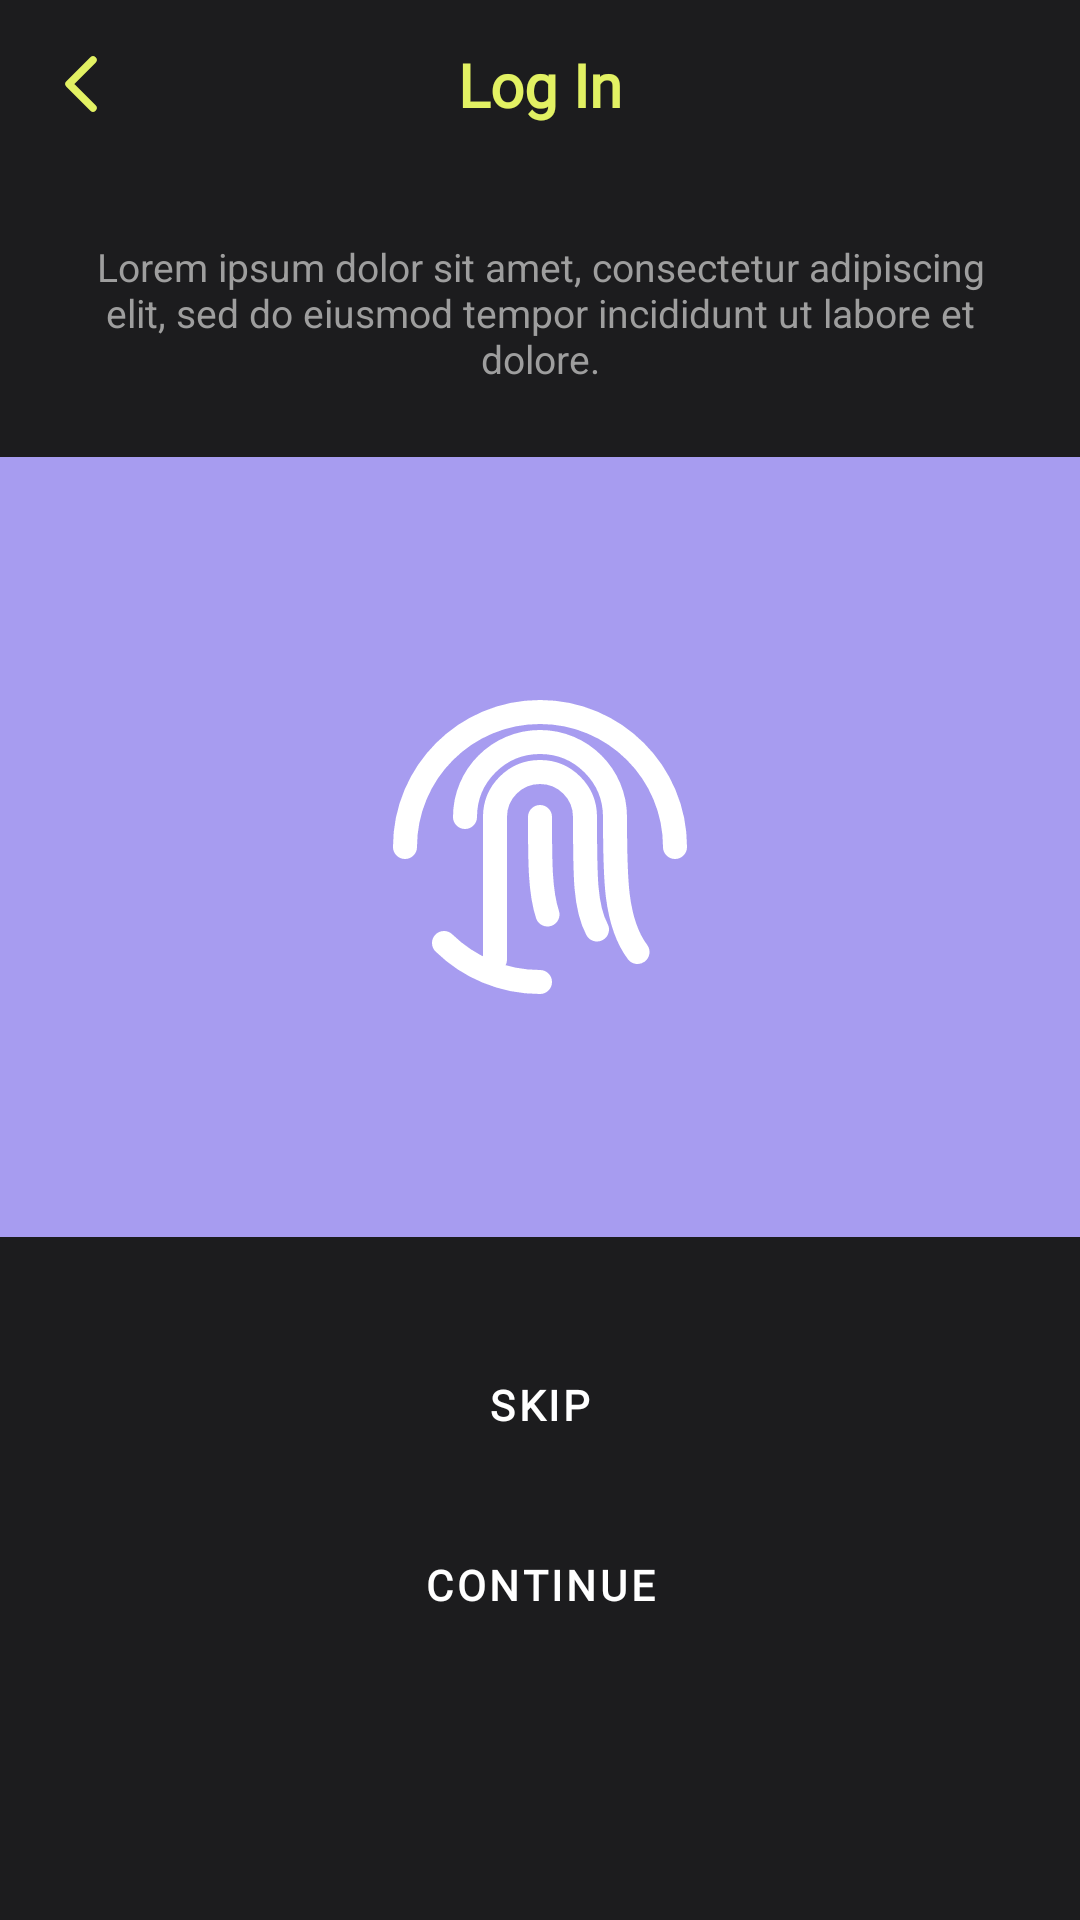

Screen size 1080w x 1920h. Icon name, then its center in pixels as (x=x, y=y):
fingerprint: (x=540, y=847)
Volver: (x=81, y=84)
